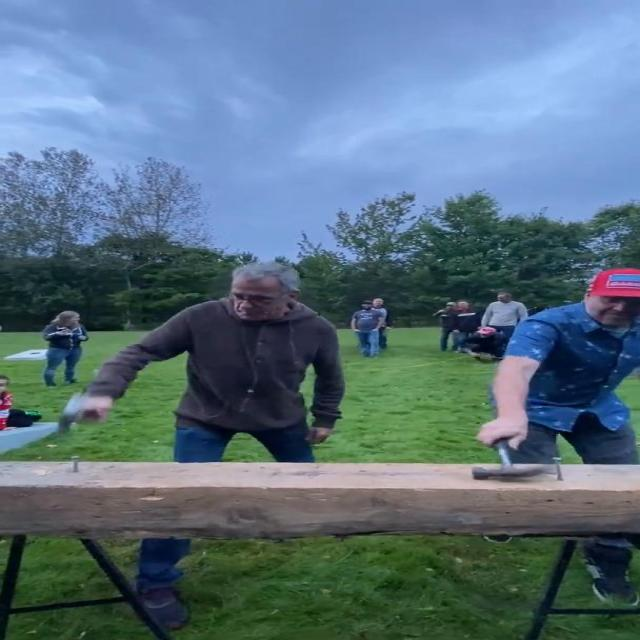hammer: (466, 432, 550, 482), (56, 388, 106, 433)
